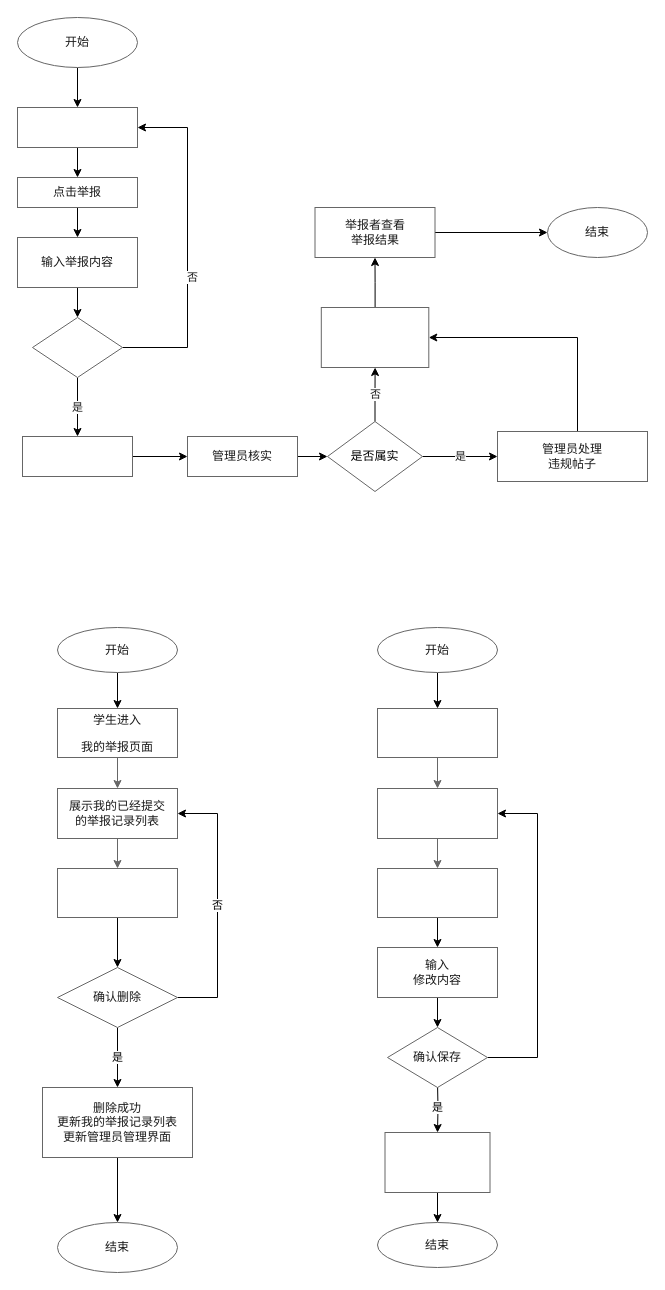
Image size: 665x1290. Some labels were removed from this diagram. Each missing label, with the box of its shape:
回复举报者审核结论并更新举报进度: (320, 306, 429, 368)
展示已经收到的 举报记录列表: (376, 788, 498, 838)
提交成功: (22, 436, 132, 476)
是否举报: (32, 316, 122, 378)
更新成功 更新首页展示 更新对应板块展示: (384, 1132, 490, 1192)
管理员进入 举报管理页面: (376, 708, 498, 758)
选择删除 某条举报记录: (56, 868, 178, 918)
选择处理某条 举报记录: (376, 868, 498, 918)
选择帖子 进入帖子详情页: (16, 106, 138, 148)
